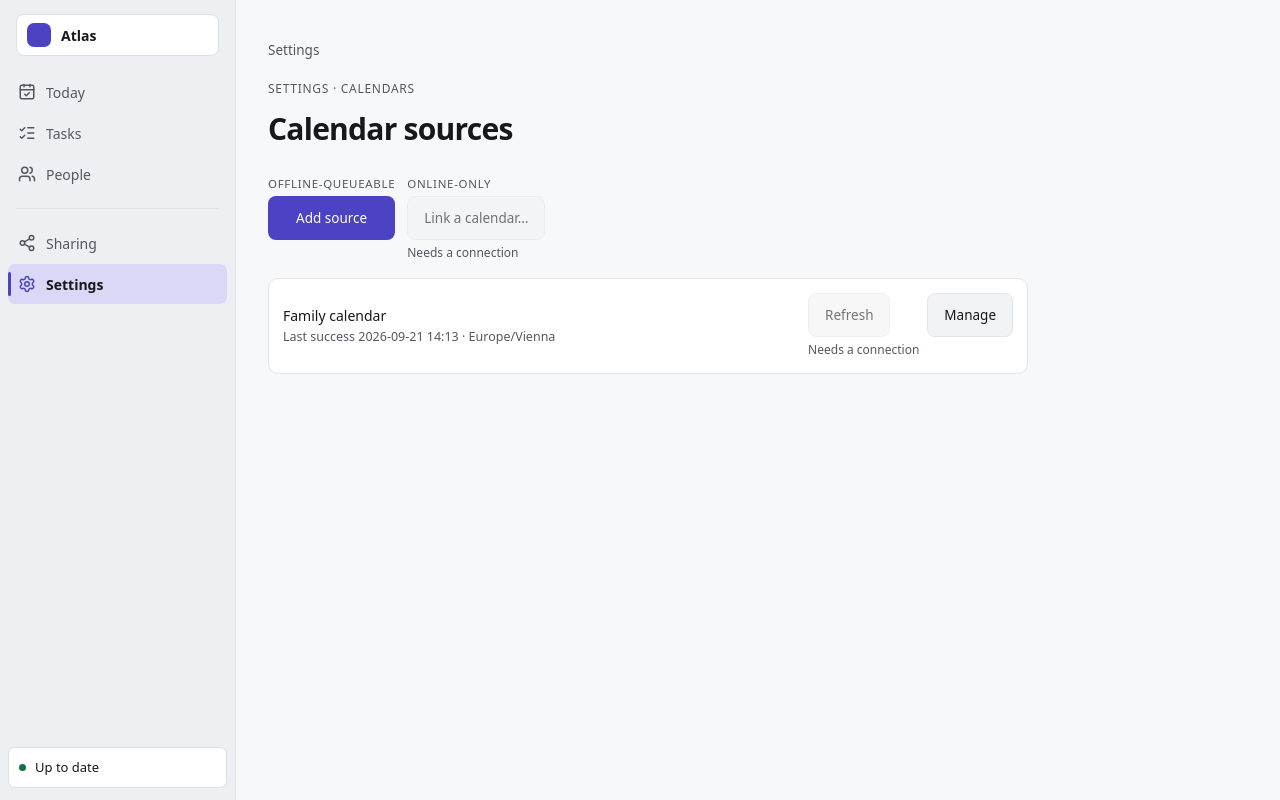
it: the screen's states › offline (the O card): Link, Refresh and the connection changes need a connection; Add source and settings still queue
Expected: the heading "Calendar sources" is shown, [268,108,513,149]
Expected: the text "Family calendar" is shown, [283,306,386,325]
Click the button with aria-label "Manage Family calendar" at (970, 315), box [927,293,1013,337]
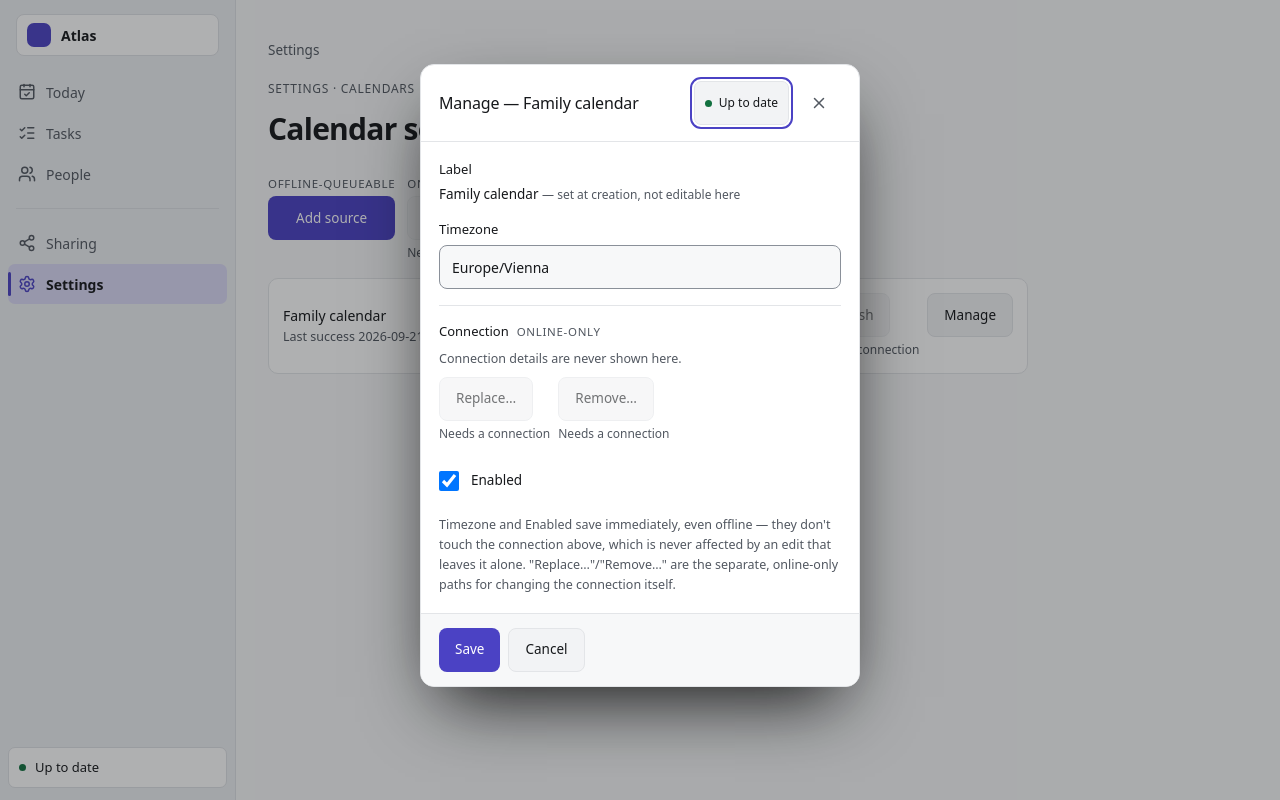
Now the button "Replace…" is disabled, box [439,376,533,420]
Now the button "Remove…" is disabled, box [558,376,654,420]
Now the button "Save" is enabled, box [439,628,500,672]
